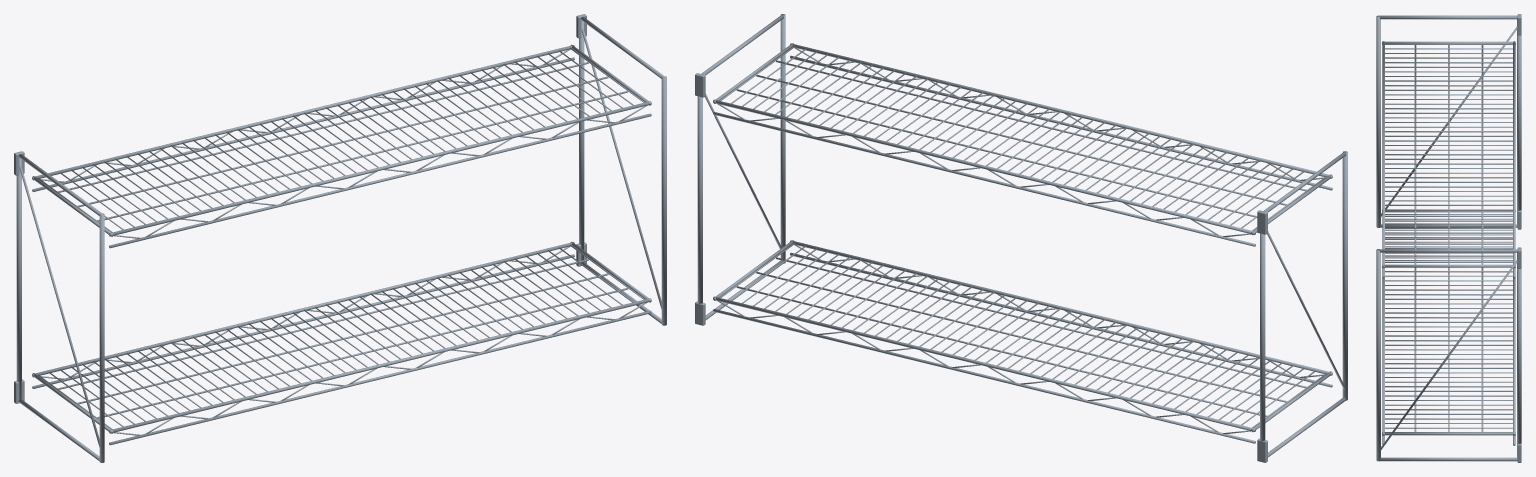
3 renders of one model, left to right at view 1: azimuth 30°, elevation 25°; view 2: azimuth 150°, elevation 25°; view 3: azimuth 270°, elevation 25°, orthographic. The views are drawn at different scales.
Parts seen in each view (by area): view 1: Shelf perimeter rail, Shelf perimeter rail.002, Shelf perimeter rail.003, Shelf perimeter rail.001, Shelf lower truss rail, Shelf lower truss rail.002, Shelf lower truss rail.003, Shelf lower truss rail.001, End support upright.002, End support upright, End support upright.001, Under-deck brace (+8 smaller); view 2: Shelf perimeter rail.001, Shelf perimeter rail.003, Shelf perimeter rail.002, Shelf perimeter rail, Shelf lower truss rail.003, Shelf lower truss rail.001, Shelf lower truss rail.002, Shelf lower truss rail, End support upright, End support upright.002, End support upright.003, End support upright.001 (+6 smaller); view 3: End support upright.002, End support upright, End support upright.001, End support upright.003, End support link.001, End support link.002, Shelf perimeter rail.002, Shelf perimeter rail.003, End frame diagonal.001, End support link.003, Under-deck brace.003, Under-deck brace.005 (+90 smaller).
Part boxes in pixels (left/top/right/bottom): Shelf perimeter rail: left=108, top=298, right=651, bottom=433; Shelf perimeter rail.002: left=108, top=101, right=651, bottom=236; Shelf perimeter rail.003: left=32, top=45, right=574, bottom=180; Shelf perimeter rail.001: left=32, top=242, right=574, bottom=377; Shelf lower truss rail: left=109, top=310, right=651, bottom=445; Shelf lower truss rail.002: left=109, top=113, right=651, bottom=248; Shelf lower truss rail.003: left=32, top=57, right=574, bottom=191; Shelf lower truss rail.001: left=32, top=254, right=574, bottom=388; End support upright.002: left=661, top=76, right=666, bottom=325; End support upright: left=99, top=213, right=104, bottom=462; End support upright.001: left=16, top=158, right=21, bottom=399; Under-deck brace: left=97, top=288, right=627, bottom=418; Shelf perimeter rail.001: left=713, top=296, right=1255, bottom=431; Shelf perimeter rail.003: left=713, top=99, right=1255, bottom=234; Shelf perimeter rail.002: left=790, top=43, right=1332, bottom=178; Shelf perimeter rail: left=790, top=240, right=1332, bottom=375; Shelf lower truss rail.003: left=713, top=112, right=1255, bottom=246; Shelf lower truss rail.001: left=713, top=309, right=1255, bottom=443; Shelf lower truss rail.002: left=790, top=55, right=1332, bottom=190; Shelf lower truss rail: left=790, top=252, right=1332, bottom=387; End support upright: left=1342, top=151, right=1347, bottom=400; End support upright.002: left=780, top=14, right=785, bottom=263; End support upright.003: left=697, top=96, right=702, bottom=304; End support upright.001: left=1260, top=233, right=1265, bottom=441; End support upright.002: left=1376, top=249, right=1380, bottom=461; End support upright: left=1376, top=15, right=1380, bottom=227; End support upright.001: left=1517, top=19, right=1521, bottom=224; End support upright.003: left=1517, top=252, right=1521, bottom=458; End support link.001: left=1378, top=15, right=1517, bottom=19; End support link.002: left=1380, top=457, right=1517, bottom=461; Shelf perimeter rail.002: left=1382, top=41, right=1384, bottom=268; Shelf perimeter rail.003: left=1513, top=41, right=1515, bottom=268; End frame diagonal.001: left=1380, top=260, right=1517, bottom=450; End support link.003: left=1378, top=249, right=1517, bottom=252; Under-deck brace.003: left=1414, top=45, right=1416, bottom=264; Under-deck brace.005: left=1481, top=45, right=1483, bottom=264.
Bounding box in the file's own units: 1.28 × 0.5334 × 0.3302.
